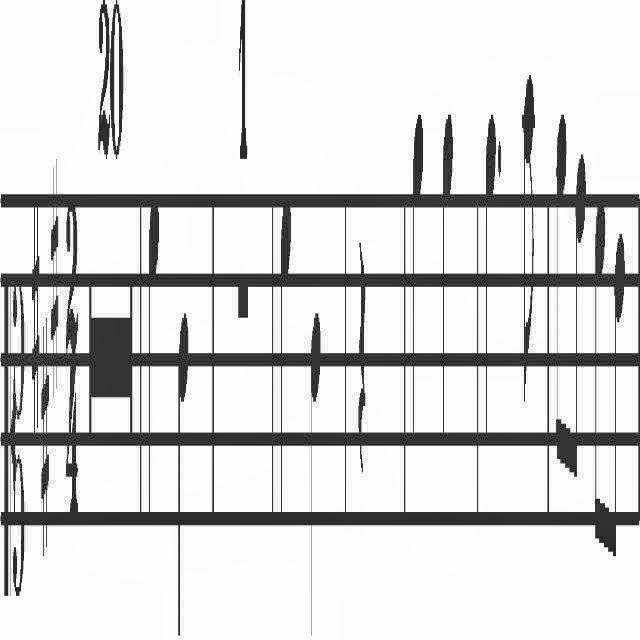Diez: (28, 178, 42, 442), (48, 156, 61, 397), (40, 319, 50, 571)
Eighth-note: (590, 142, 606, 570), (550, 92, 568, 468), (612, 198, 628, 598), (520, 58, 536, 446), (571, 129, 587, 515)
Quarter-note: (142, 167, 162, 545), (407, 94, 425, 498), (482, 78, 498, 498), (440, 81, 456, 486), (174, 308, 190, 640), (309, 284, 323, 640), (279, 155, 291, 541)
Quarter-rest: (356, 214, 368, 514)
